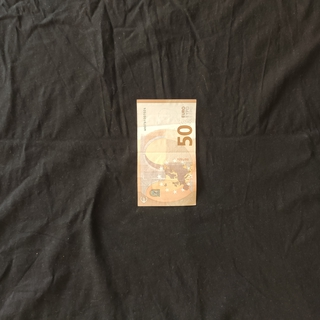50EUROBack: (135, 97, 198, 207)
